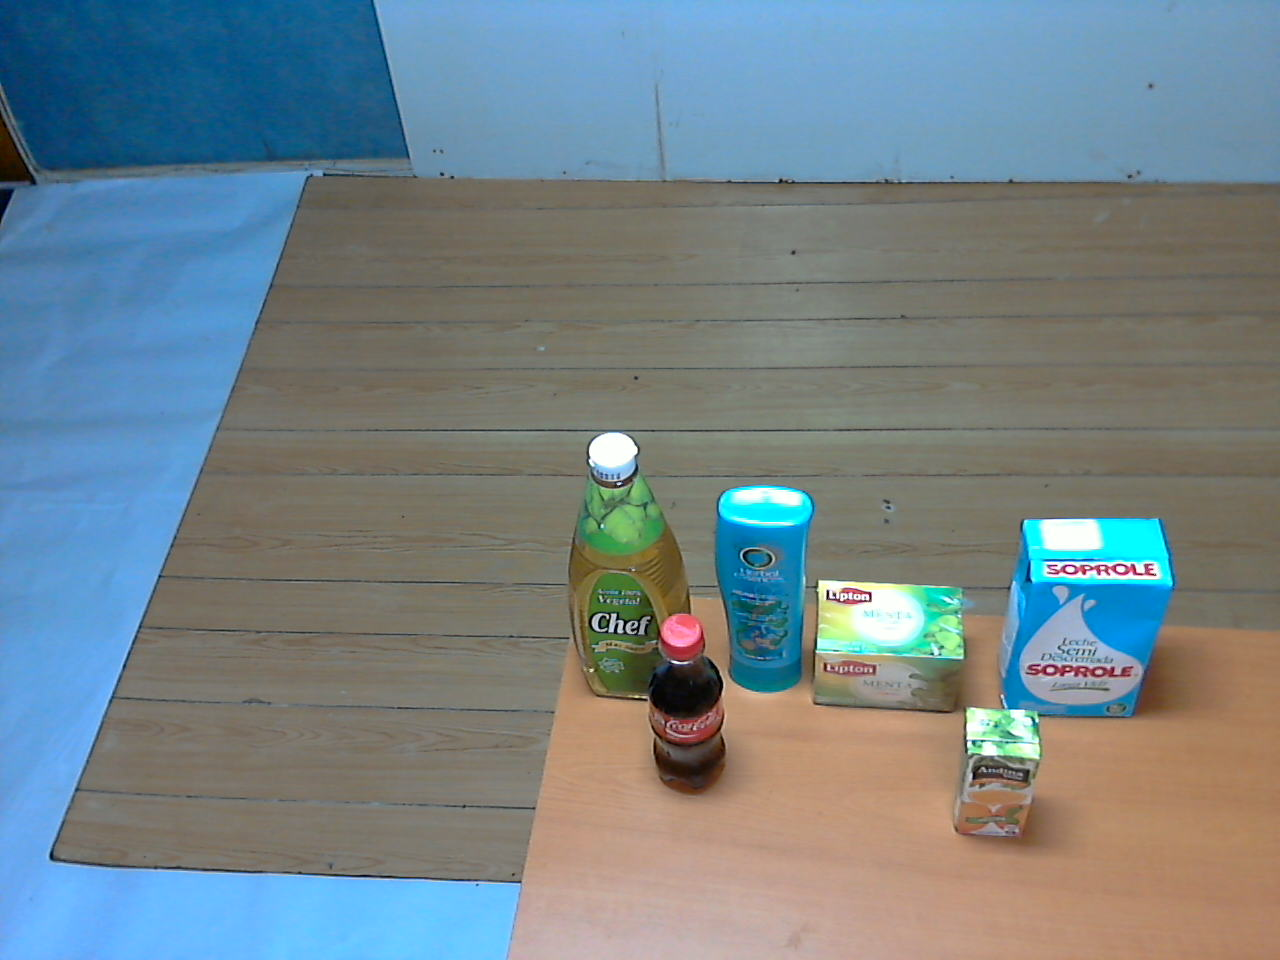aceite: (554, 434, 708, 719)
balsamo: (707, 482, 816, 703)
coca: (633, 603, 741, 801)
jugoind: (951, 701, 1048, 856)
leche: (985, 511, 1183, 728)
te: (801, 566, 973, 725)
